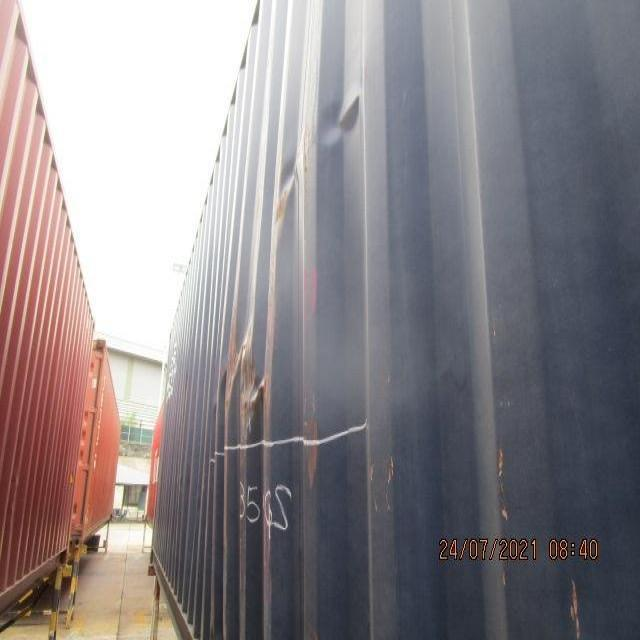Dent: (203, 292, 373, 467)
Minor-Dent: (270, 72, 370, 239)
